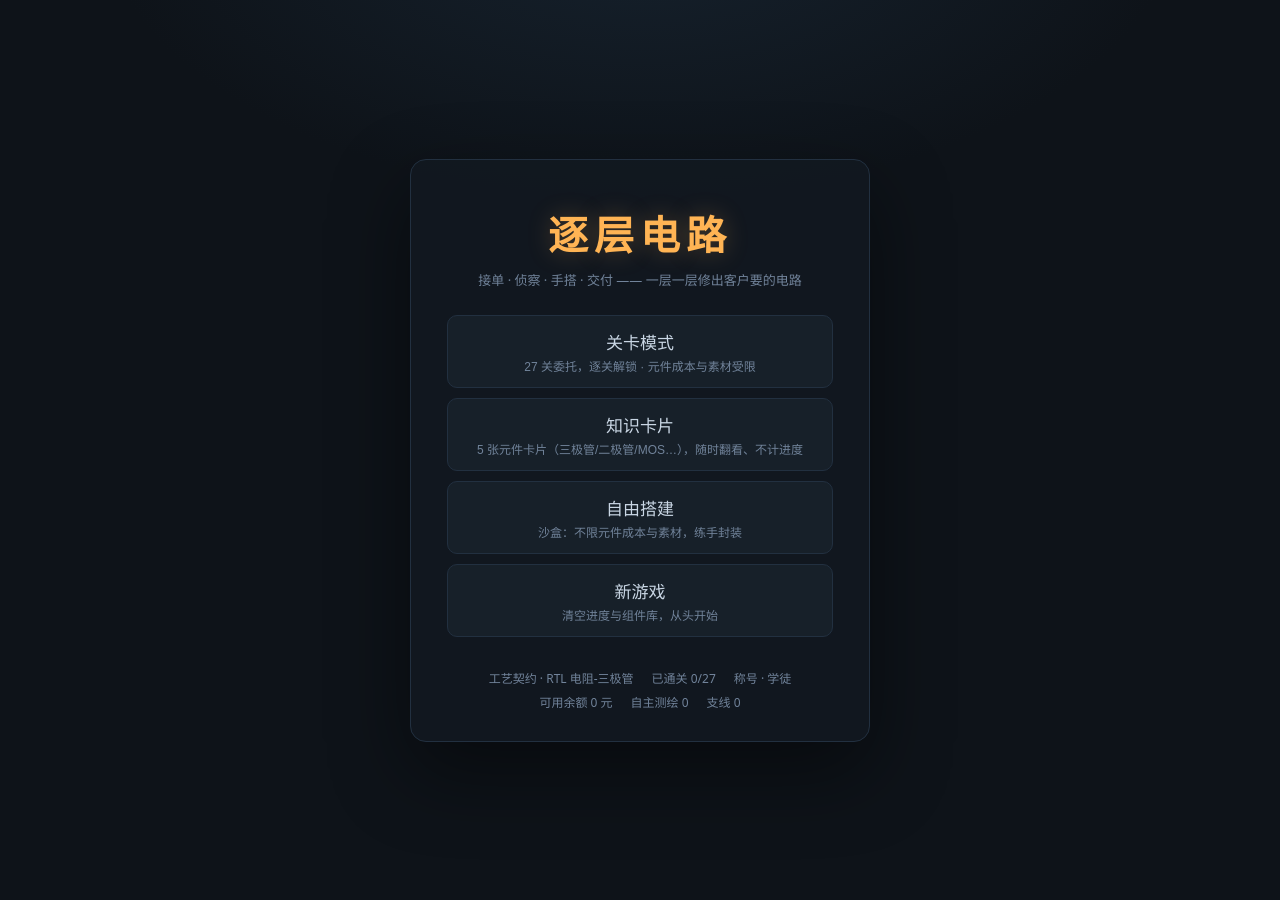
Test: 手动平移/缩放之后不再被重置 › 滚轮缩放一次 → 再触发容器尺寸变化（旋屏）也不重新 fit
The width and height of the screenshot is (1280, 900).
Click the button "关卡模式 27 关委托，逐关解锁 · 元件成本与素材受限". click: (640, 351)
box: [447,314,833,388]
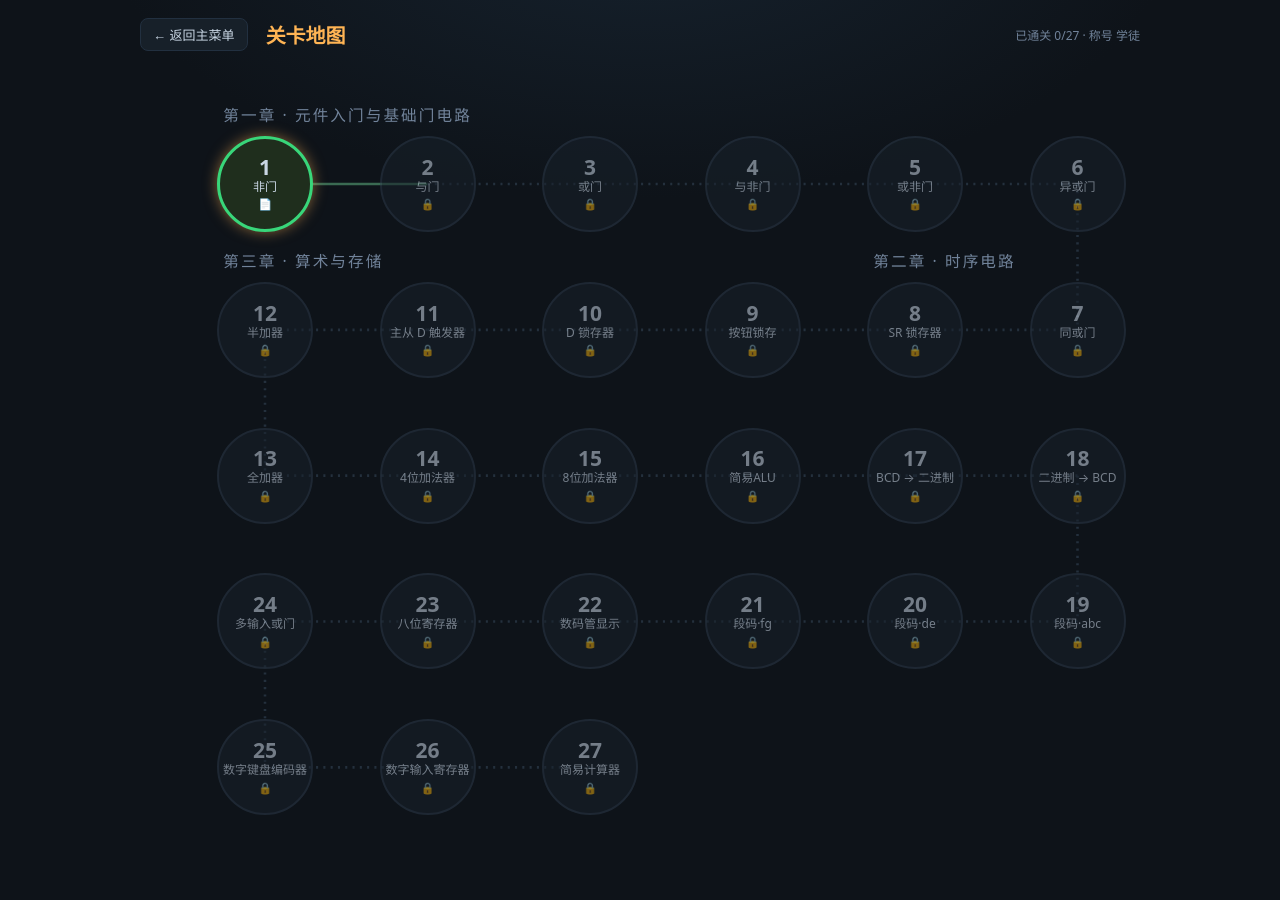
Click the text "非门". click: (265, 187)
box: [253,180,277,194]
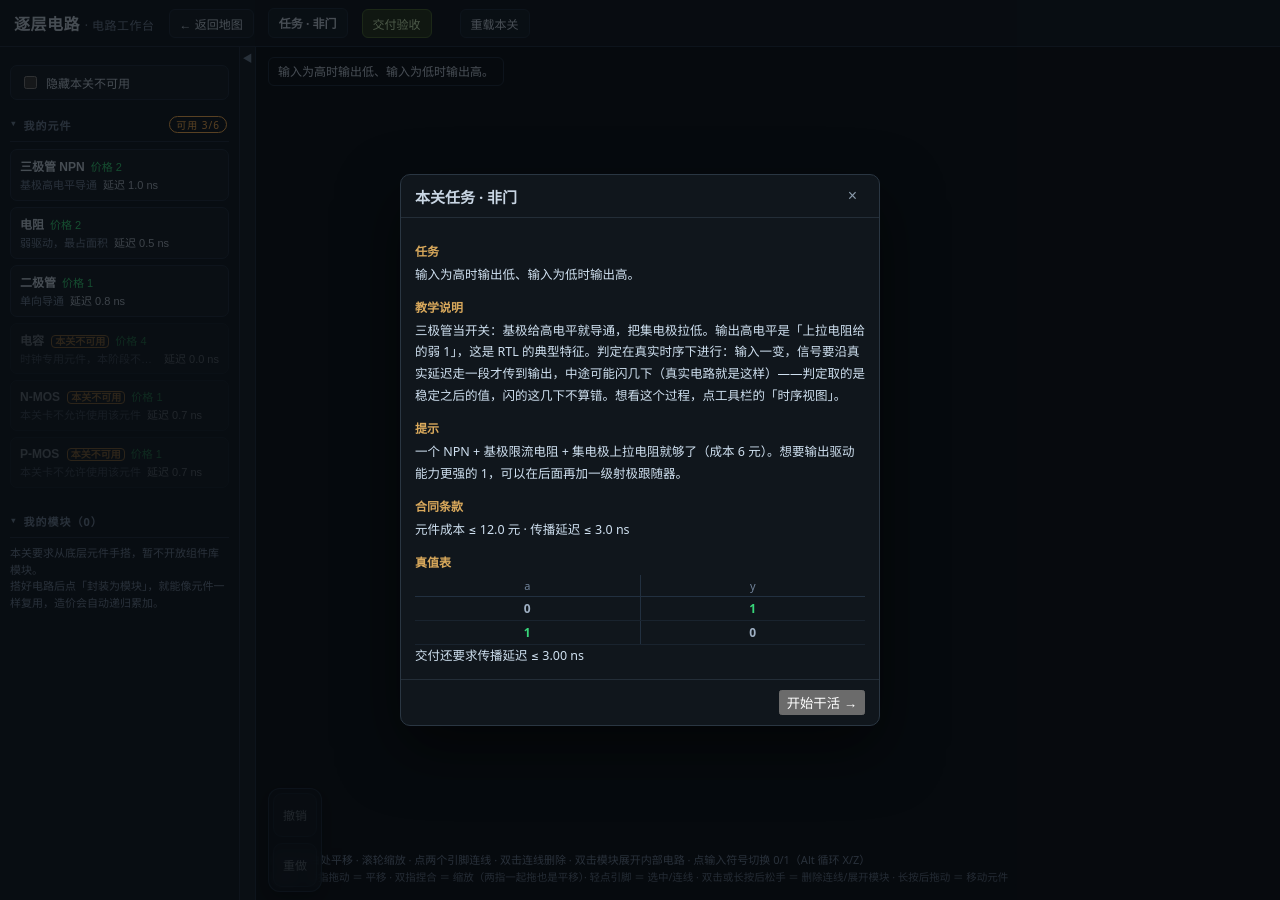
Now the drawing is shown
